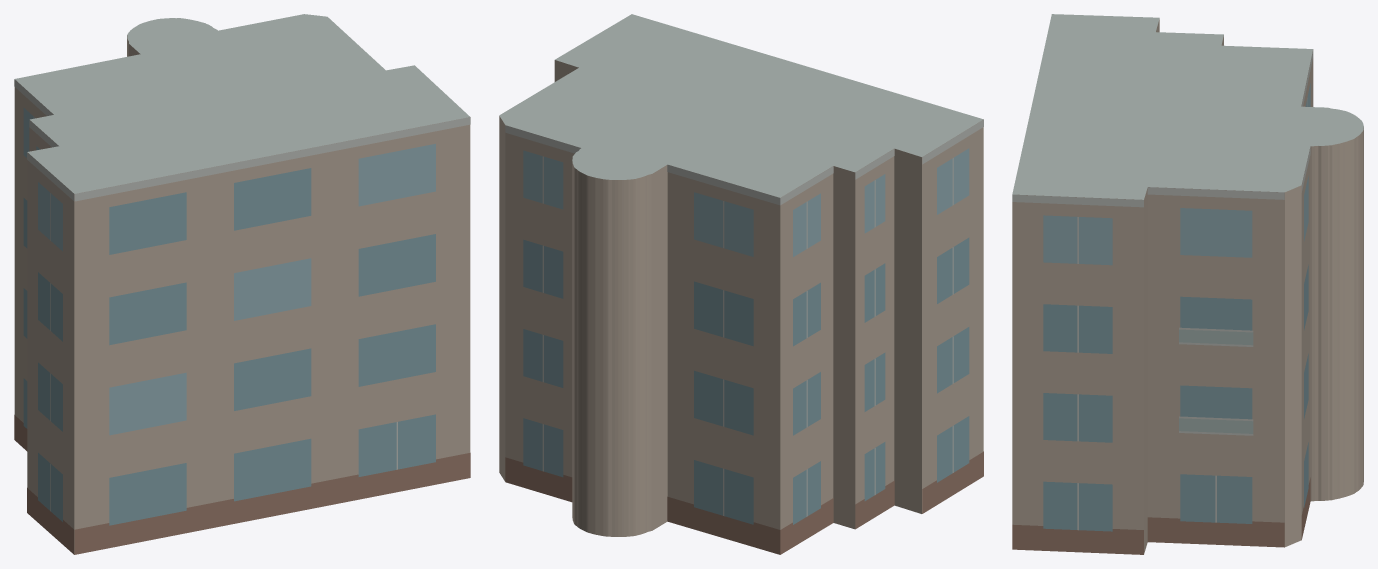
Rendered from survey-upis-32670730.glb.
3 views of the same model, side by side, from view 1: azimuth 30°, elevation 25°; view 2: azimuth 150°, elevation 25°; view 3: azimuth 270°, elevation 25° (orthographic).
Parts seen in each view (by area): view 1: survey-upis-32670730.tmp; view 2: survey-upis-32670730.tmp; view 3: survey-upis-32670730.tmp.
Boxes of the visible parts, x1,y1,x2,y2 form: survey-upis-32670730.tmp: [14, 14, 470, 554]; survey-upis-32670730.tmp: [499, 14, 983, 554]; survey-upis-32670730.tmp: [1012, 14, 1363, 554].
Size of the model in its own units: 12.98 by 11.55 by 10.37.
